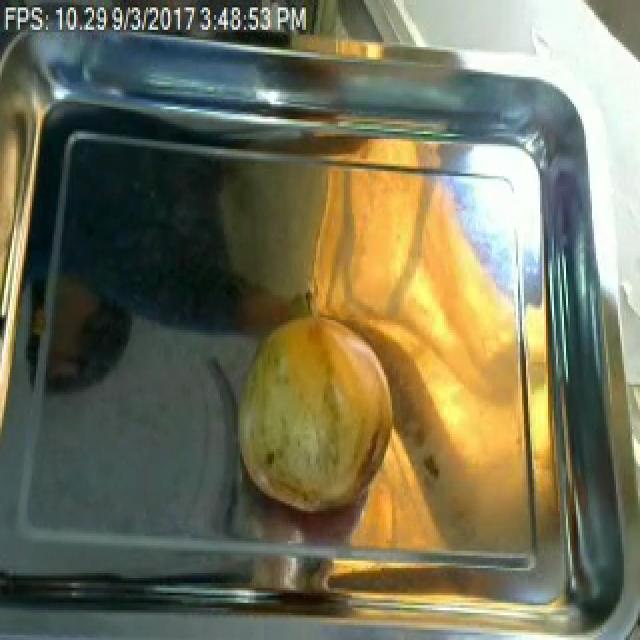fruit: (224, 290, 406, 531)
